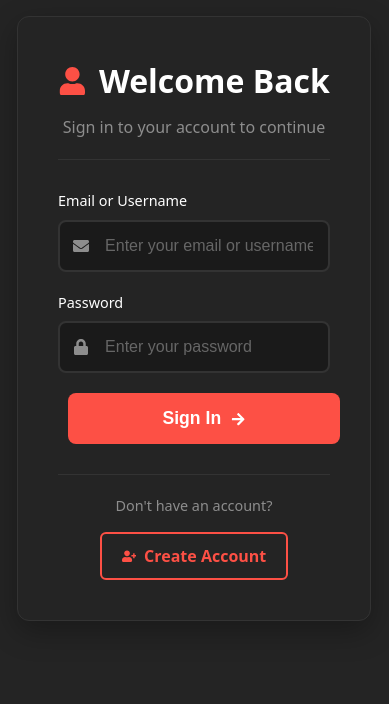
Test: Auth Components › LoginPage › should validate required fields
Click the button "Sign In" at (204, 419), box [68,393,340,444]
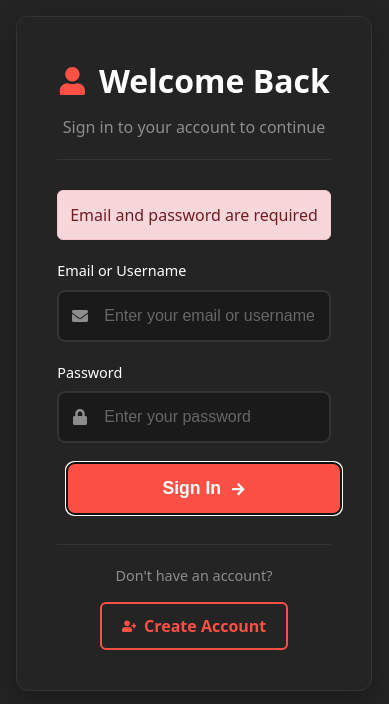
expect the text "Email and password are required" is shown: met, box [57,190,331,240]
